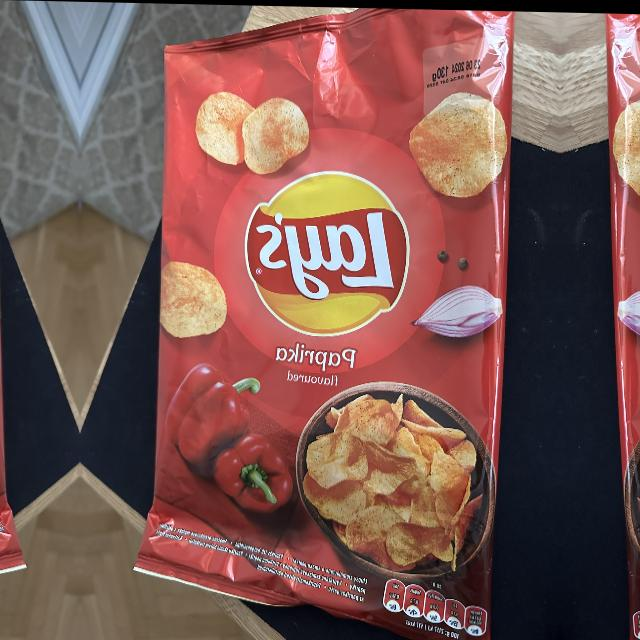lays: (246, 170, 411, 337)
